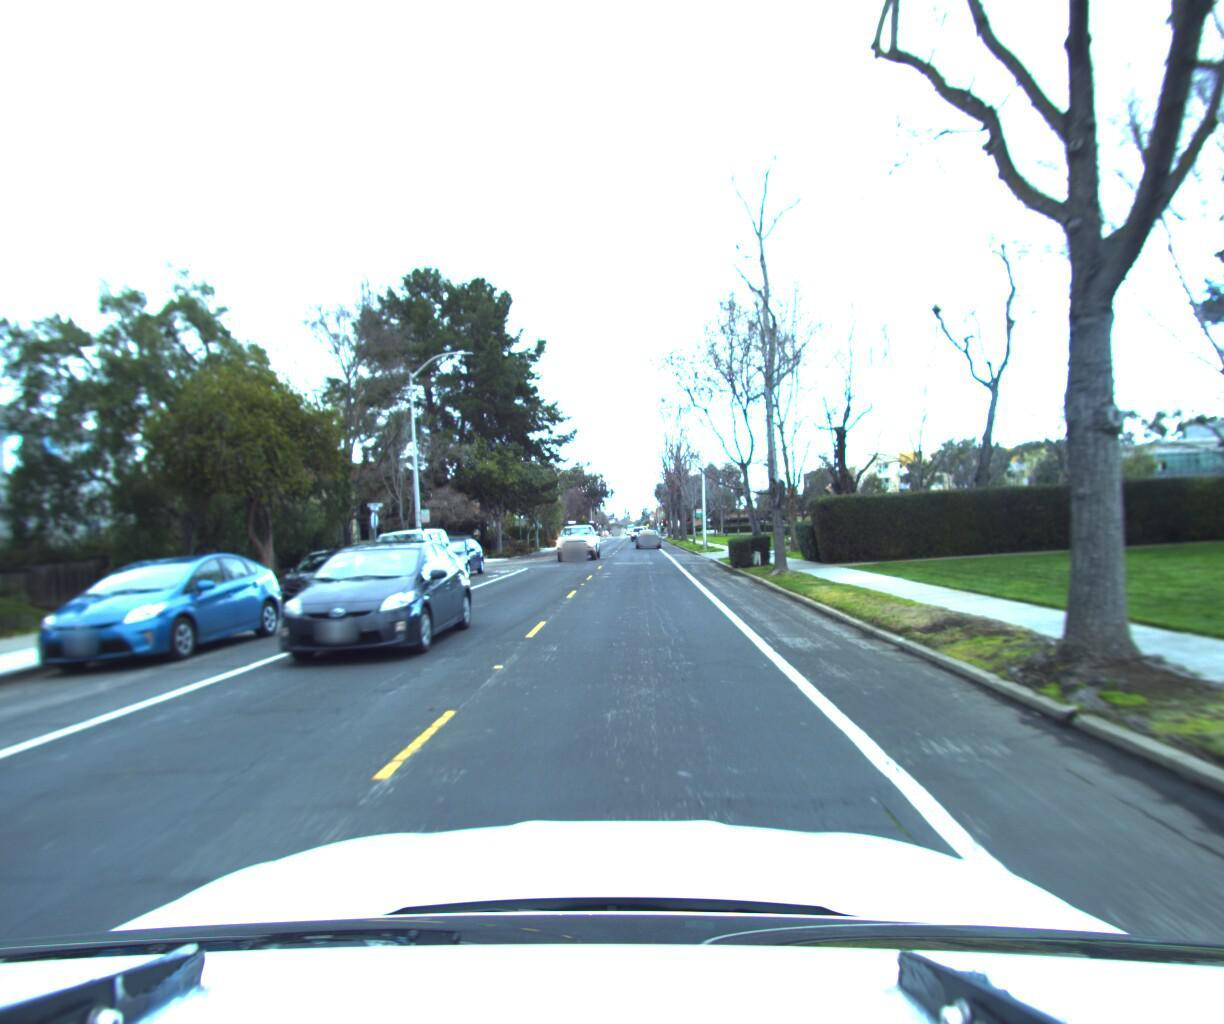car: (9, 549, 301, 683), (259, 534, 475, 669), (263, 543, 405, 619), (355, 525, 460, 596), (414, 536, 488, 582), (553, 515, 601, 562), (632, 525, 659, 548)
